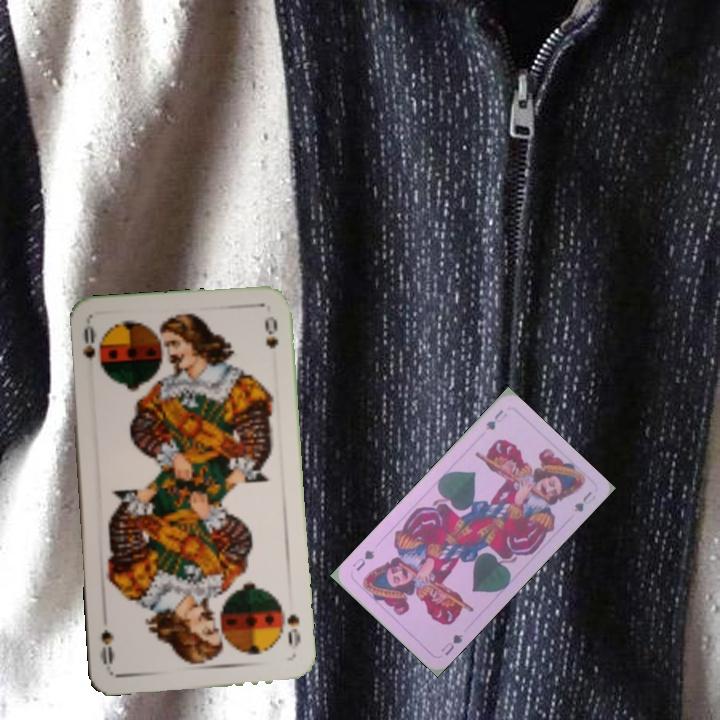GU: (437, 630, 466, 658), (481, 405, 510, 433)
SO: (277, 599, 304, 652), (78, 322, 98, 362)
